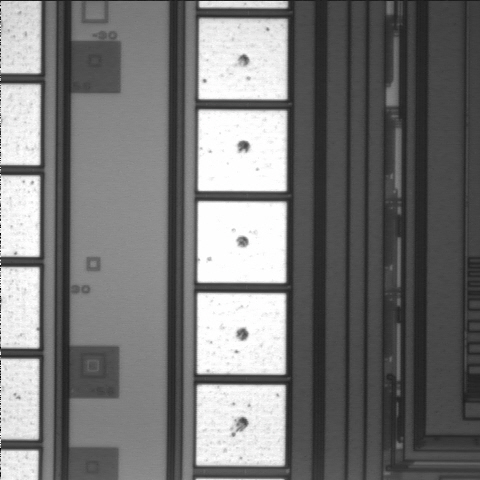pad: (197, 201, 286, 283), (197, 293, 286, 375), (198, 110, 287, 191), (196, 385, 285, 466), (199, 19, 287, 100)
